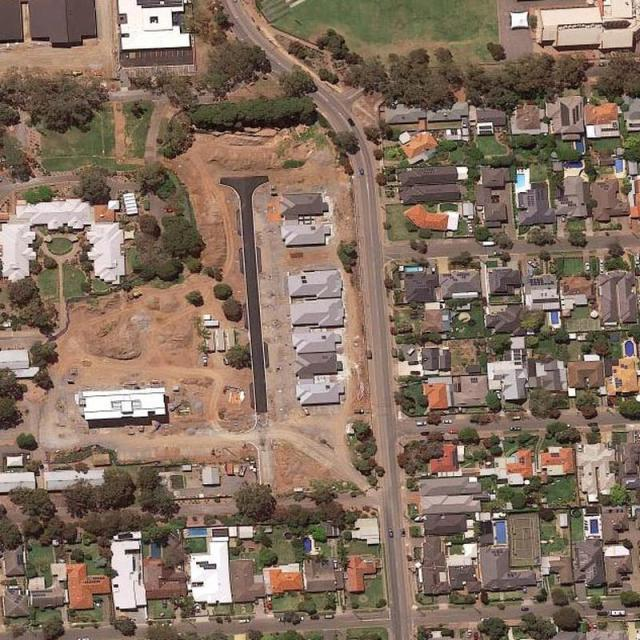vehicle: (609, 610, 627, 617), (346, 117, 357, 127), (387, 526, 394, 537), (415, 419, 426, 426), (238, 618, 250, 624), (597, 610, 607, 617), (202, 355, 208, 366), (448, 429, 459, 435), (358, 166, 365, 175), (528, 259, 535, 268), (94, 601, 102, 608), (323, 614, 334, 619), (467, 630, 473, 639), (521, 584, 526, 594), (309, 615, 319, 620), (520, 606, 530, 611), (509, 426, 521, 430), (586, 261, 590, 273), (577, 443, 582, 452), (334, 559, 338, 570), (442, 418, 452, 422), (594, 622, 598, 632), (196, 602, 200, 611), (355, 410, 365, 413), (600, 258, 603, 266), (600, 267, 603, 274)
